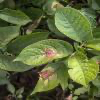Potato leaf late blight: (13, 38, 74, 64), (29, 60, 67, 93), (42, 0, 67, 16)
